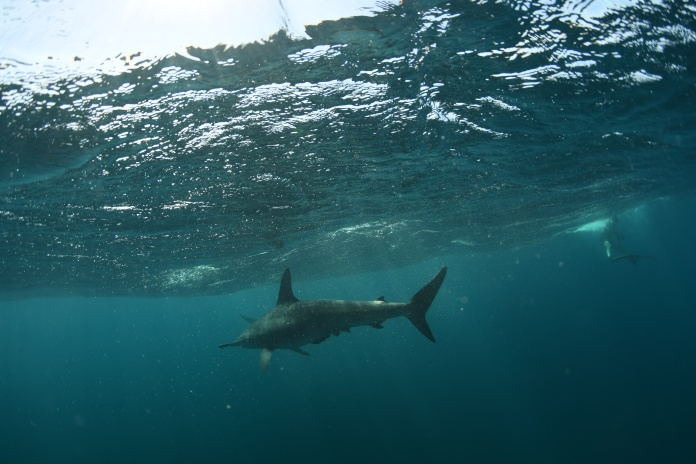Hammer: (216, 243, 478, 392)
